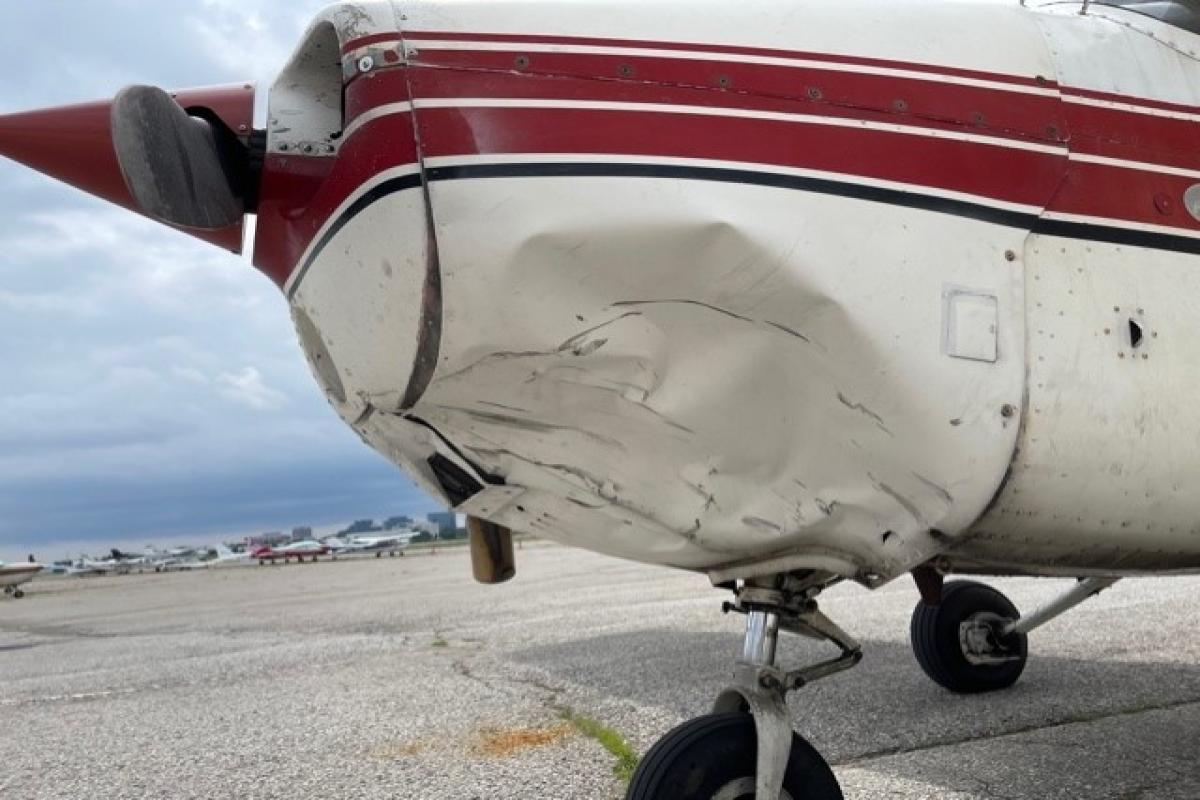Fuselage_damage: (373, 194, 928, 598)
